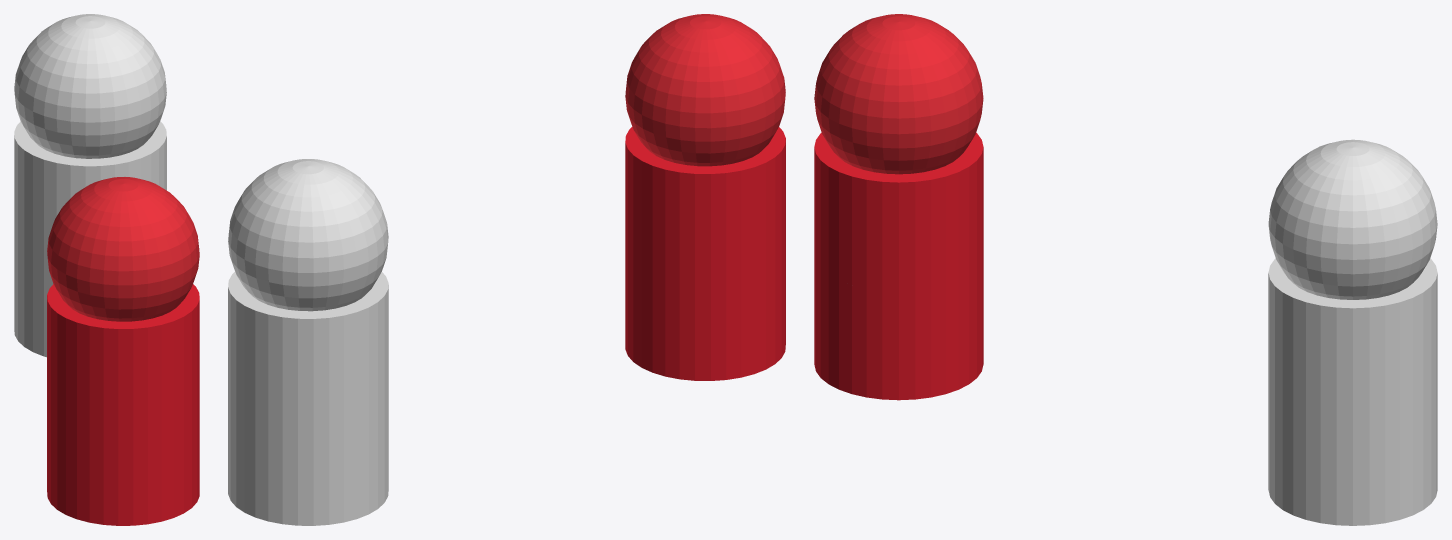
File: red.dae
3 renders of one model, left to right at view 1: azimuth 30°, elevation 25°; view 2: azimuth 150°, elevation 25°; view 3: azimuth 270°, elevation 25°, orthographic. The views are drawn at different scales.
Visible parts, largest first — view 1: Cylinder.001, Sphere.001, Sphere.003, Cylinder.002; view 2: Cylinder.001, Cylinder.002, Sphere.001, Sphere.003; view 3: Cylinder.002, Cylinder.001, Sphere.003, Sphere.001.
Part boxes in pixels (left/top/right/bottom): Cylinder.001: left=47, top=284, right=199, bottom=525; Sphere.001: left=47, top=177, right=199, bottom=321; Sphere.003: left=14, top=14, right=166, bottom=158; Cylinder.002: left=14, top=121, right=166, bottom=357; Cylinder.001: left=625, top=127, right=785, bottom=380; Cylinder.002: left=228, top=271, right=388, bottom=525; Sphere.001: left=625, top=14, right=785, bottom=166; Sphere.003: left=228, top=159, right=388, bottom=311; Cylinder.002: left=1268, top=258, right=1437, bottom=525; Cylinder.001: left=814, top=132, right=983, bottom=400; Sphere.003: left=1268, top=139, right=1437, bottom=299; Sphere.001: left=814, top=14, right=983, bottom=174.
Size of the model in its own units: 4.6 by 7.37 by 4.9.
